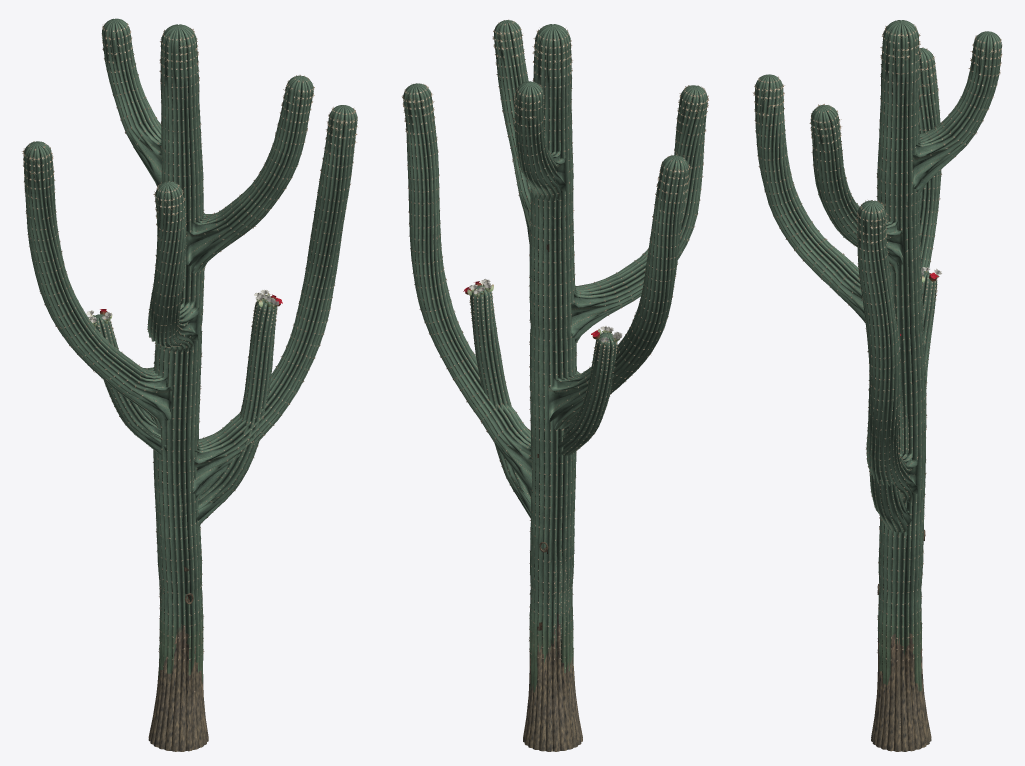
The model's file is saguaro_v3.glb.
3 views of the same model, side by side, from view 1: azimuth 30°, elevation 25°; view 2: azimuth 150°, elevation 25°; view 3: azimuth 270°, elevation 25° (orthographic).
Visible parts, largest first — view 1: s12, s7f; view 2: s12, s7f; view 3: s12, s7f.
Boxes of the visible parts, left/top/right/bottom form: s12: left=22, top=18, right=357, bottom=751; s7f: left=86, top=290, right=282, bottom=610; s12: left=402, top=19, right=708, bottom=751; s7f: left=463, top=279, right=622, bottom=659; s12: left=753, top=20, right=1002, bottom=751; s7f: left=869, top=267, right=941, bottom=546.
Size of what is drawn, in the model's own units: 5.66 by 12.01 by 4.03.
4 materials, 4 textured.
